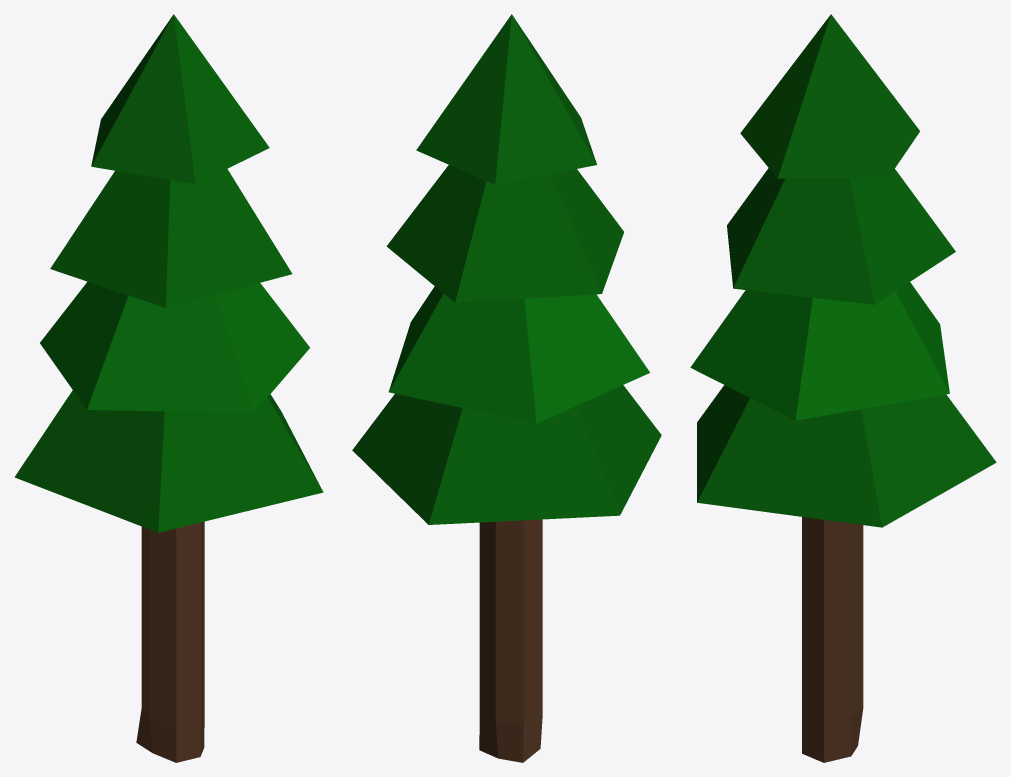
File: livingtreeforest2.fbx
3 views of the same model, side by side, from view 1: azimuth 30°, elevation 25°; view 2: azimuth 150°, elevation 25°; view 3: azimuth 270°, elevation 25° (orthographic).
Parts seen in each view (by area): view 1: Cone.009; view 2: Cone.009; view 3: Cone.009.
Boxes of the visible parts, left/top/right/bottom form: Cone.009: left=14, top=14, right=323, bottom=762; Cone.009: left=352, top=14, right=661, bottom=762; Cone.009: left=690, top=14, right=996, bottom=762.
Bounding box in the file's own units: 171 × 452 × 171.
